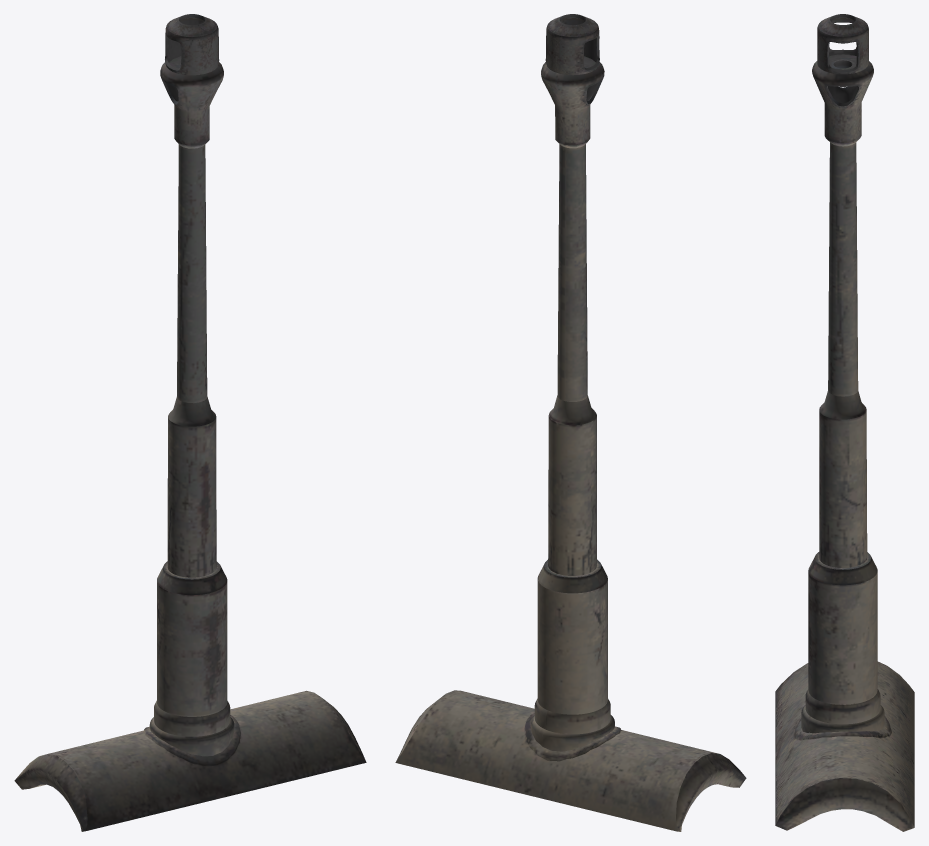
The model's file is Gun_07.glb.
3 renders of one model, left to right at view 1: azimuth 30°, elevation 25°; view 2: azimuth 150°, elevation 25°; view 3: azimuth 270°, elevation 25°, orthographic.
Visible parts, largest first — view 1: set_0_group_0; view 2: set_0_group_0; view 3: set_0_group_0.
Part boxes in pixels (bbox=[...]): set_0_group_0: bbox=[14, 14, 366, 831]; set_0_group_0: bbox=[395, 14, 746, 831]; set_0_group_0: bbox=[775, 14, 914, 831].
Bounding box in the file's own units: 1.54 × 3.95 × 0.6704.
Materials: 1 (1 with a texture image).
